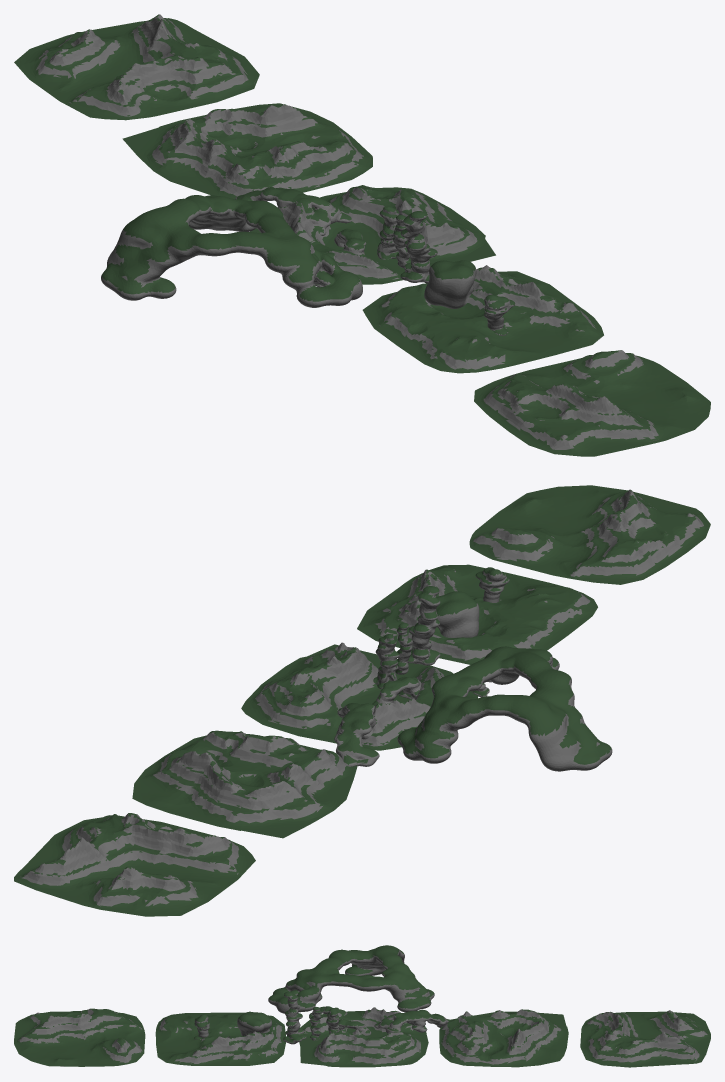
The model's file is Terrain.fbx.
3 renders of one model, top to bottom at view 1: azimuth 30°, elevation 25°; view 2: azimuth 150°, elevation 25°; view 3: azimuth 270°, elevation 25°, orthographic. The views are drawn at different scales.
Parts seen in each view (by area): view 1: Landscape 2, Landscape 3, Landscape 4, Cove 1, Landscape 1, Landscape 5, Cliff 1, Arch 3, Column 3, Cliff 2, Column 1; view 2: Landscape 2, Landscape 3, Landscape 4, Cove 1, Landscape 1, Landscape 5, Arch 3, Cliff 1, Column 3, Column 1, Arch 1, Cliff 2; view 3: Landscape 2, Landscape 3, Landscape 4, Cove 1, Landscape 1, Landscape 5, Arch 3, Column 3, Cliff 1, Arch 1, Column 2, Cliff 2 (+1 smaller).
Part boxes in pixels (<box>): Landscape 2: <box>474,350,710,456</box>; Landscape 3: <box>14,14,259,120</box>; Landscape 4: <box>122,103,372,199</box>; Cove 1: <box>101,195,362,307</box>; Landscape 1: <box>362,265,603,373</box>; Landscape 5: <box>250,185,495,284</box>; Cliff 1: <box>424,260,476,308</box>; Arch 3: <box>235,187,351,235</box>; Column 3: <box>400,211,437,283</box>; Cliff 2: <box>484,294,515,335</box>; Column 1: <box>377,206,398,259</box>; Landscape 2: <box>469,485,710,584</box>; Landscape 3: <box>14,813,255,916</box>; Landscape 4: <box>132,730,357,838</box>; Cove 1: <box>397,646,612,771</box>; Landscape 1: <box>357,564,597,664</box>; Landscape 5: <box>241,642,478,750</box>; Arch 3: <box>334,703,379,766</box>; Cliff 1: <box>436,591,479,637</box>; Column 3: <box>397,586,440,665</box>; Column 1: <box>373,634,399,689</box>; Arch 1: <box>372,676,421,704</box>; Cliff 2: <box>475,567,509,602</box>; Landscape 2: <box>14,1008,145,1066</box>; Landscape 3: <box>580,1010,710,1067</box>; Landscape 4: <box>439,1009,568,1067</box>; Cove 1: <box>268,945,434,1013</box>; Landscape 1: <box>155,1012,285,1065</box>; Landscape 5: <box>299,1007,428,1067</box>; Arch 3: <box>374,1009,450,1035</box>; Column 3: <box>283,991,306,1044</box>; Cliff 1: <box>237,1011,271,1036</box>; Arch 1: <box>338,1019,371,1035</box>; Column 2: <box>310,1007,321,1040</box>; Cliff 2: <box>194,1014,209,1039</box>.
Size of the model in its own units: 34692 by 7729 by 98553.
